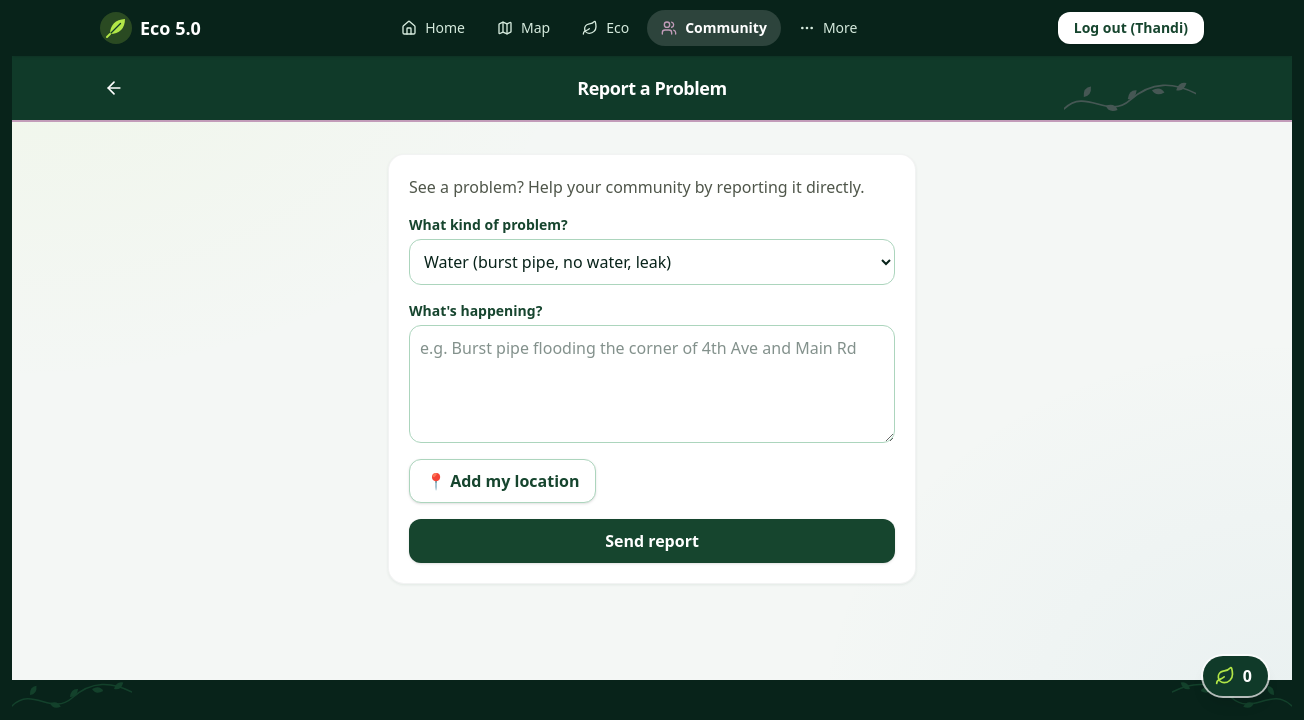
Test case: Report a problem (/community/report) › sends the report and says thanks
Check: the dropdown labelled "What kind of problem?" shows "Water (burst pipe, no water, leak)", box [409,239,895,285]
Type "Burst pipe on 4th Ave" into the text box labelled "What's happening?".
click(652, 384); type("Burst pipe on 4th Ave")  # box [409,325,895,443]
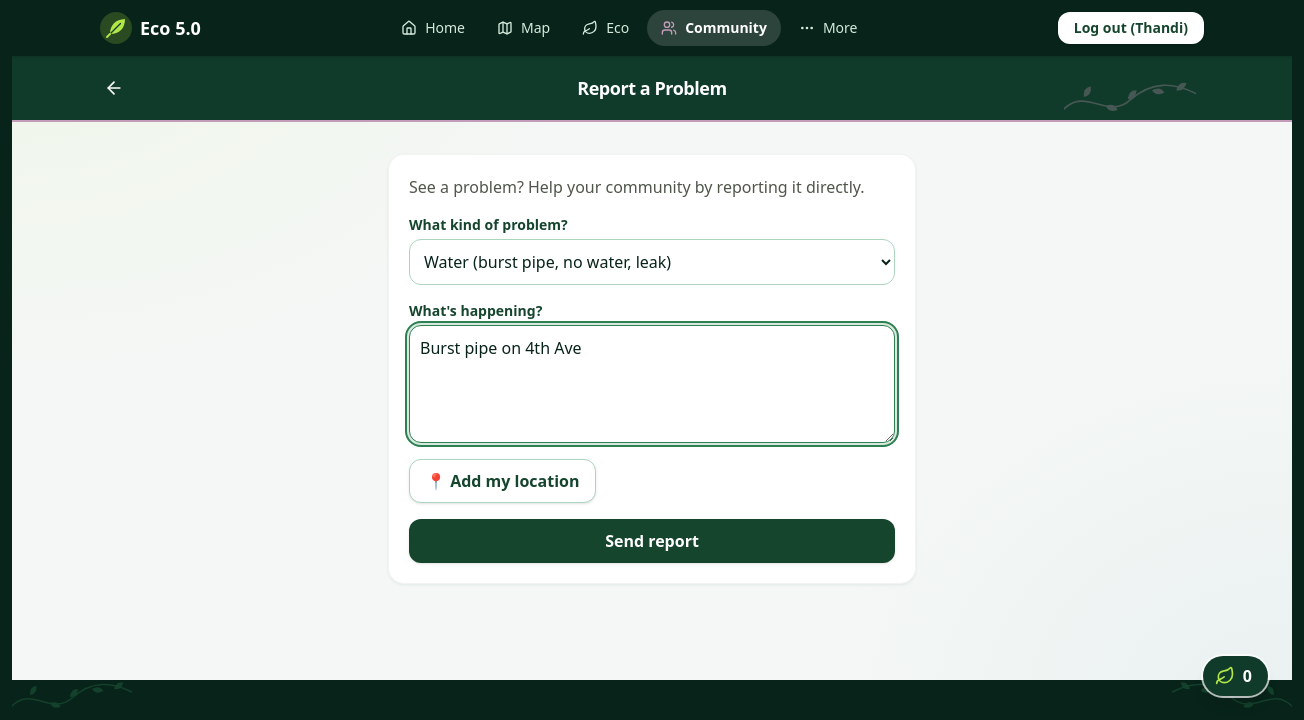
Click the button "Send report".
click(652, 541)  # box [409,519,895,563]
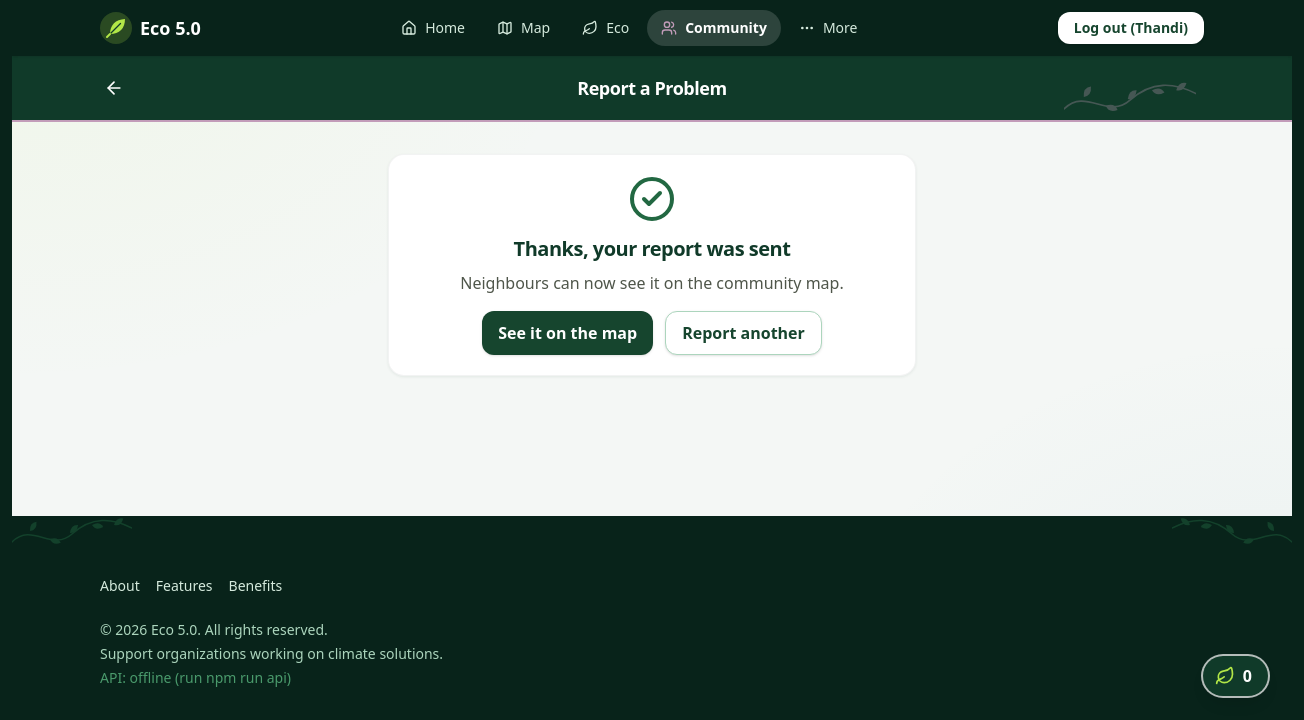
Check: the heading "Thanks, your report was sent" is shown, box [514,235,790,262]
